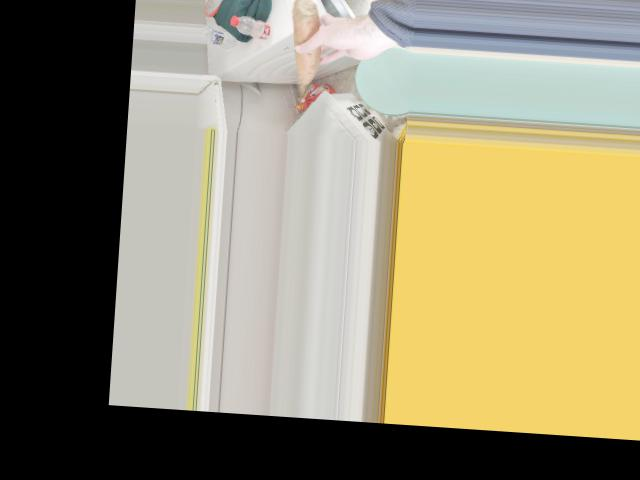sweet_potato: (296, 8, 322, 84)
